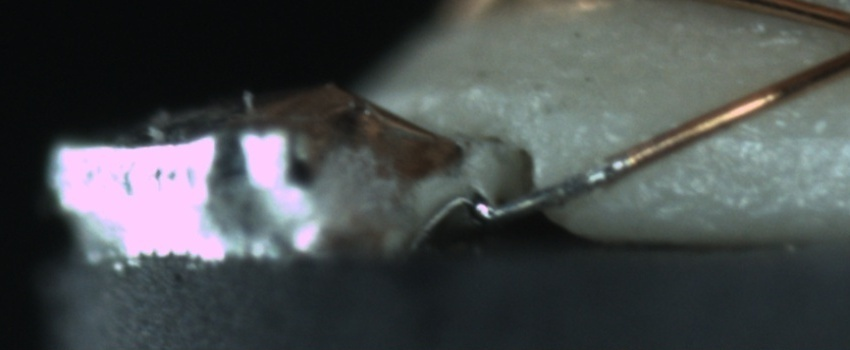DL: (697, 99, 850, 164)
TS: (477, 155, 631, 225)
